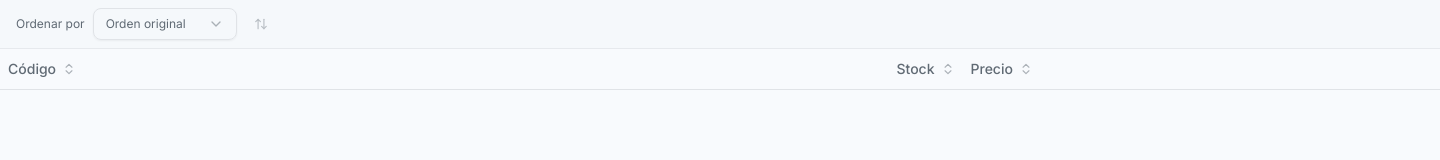
Scenario: el selector de orden › el selector dice por dónde va la tabla se ordene como se ordene
Expected: the dropdown labelled "Orden original" is shown, [93,8,237,40]
Click the button "Stock": (915, 68) [520,55,954,83]
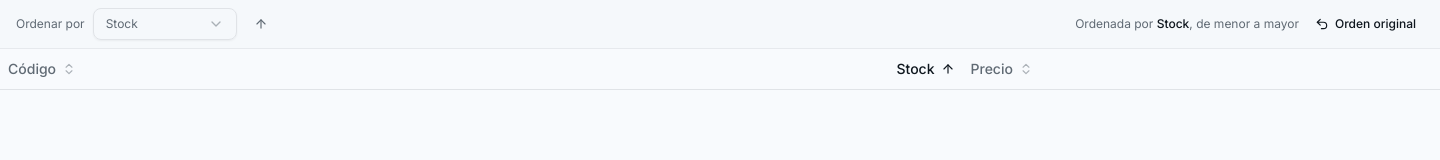
Expected: the dropdown labelled "Stock" is shown, [93,8,237,40]
